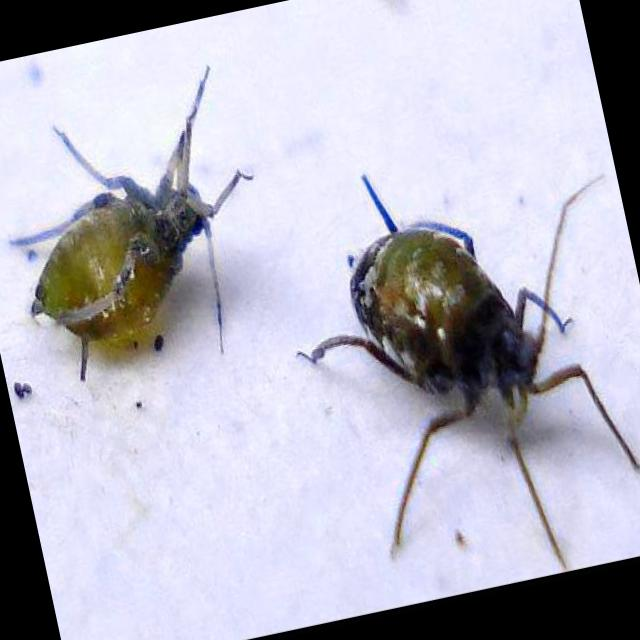aphid: (302, 164, 634, 555), (6, 106, 278, 378)
